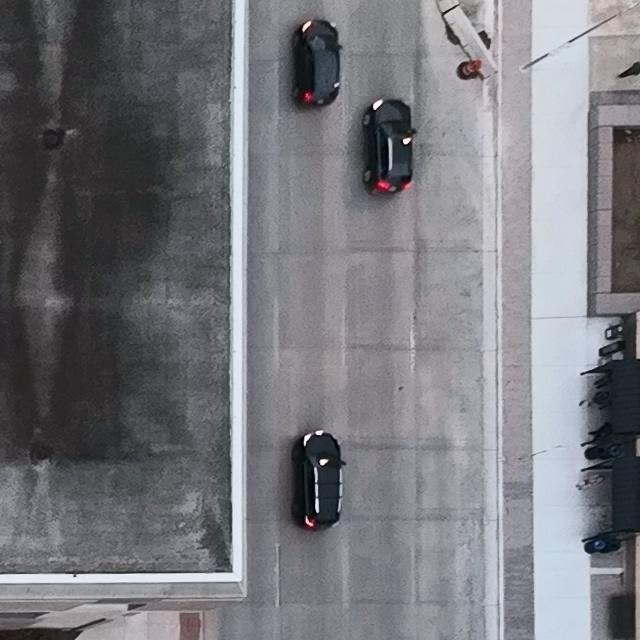car: (292, 429, 347, 530), (362, 99, 418, 194), (291, 20, 343, 106)
